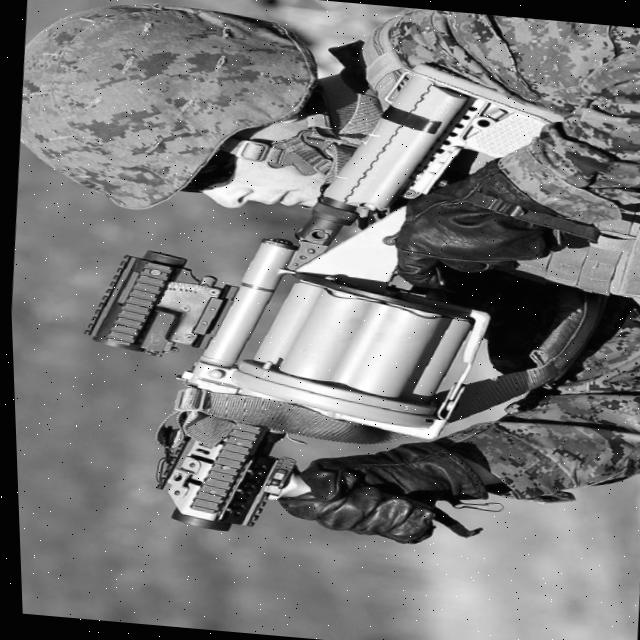rocket: (56, 30, 597, 562)
